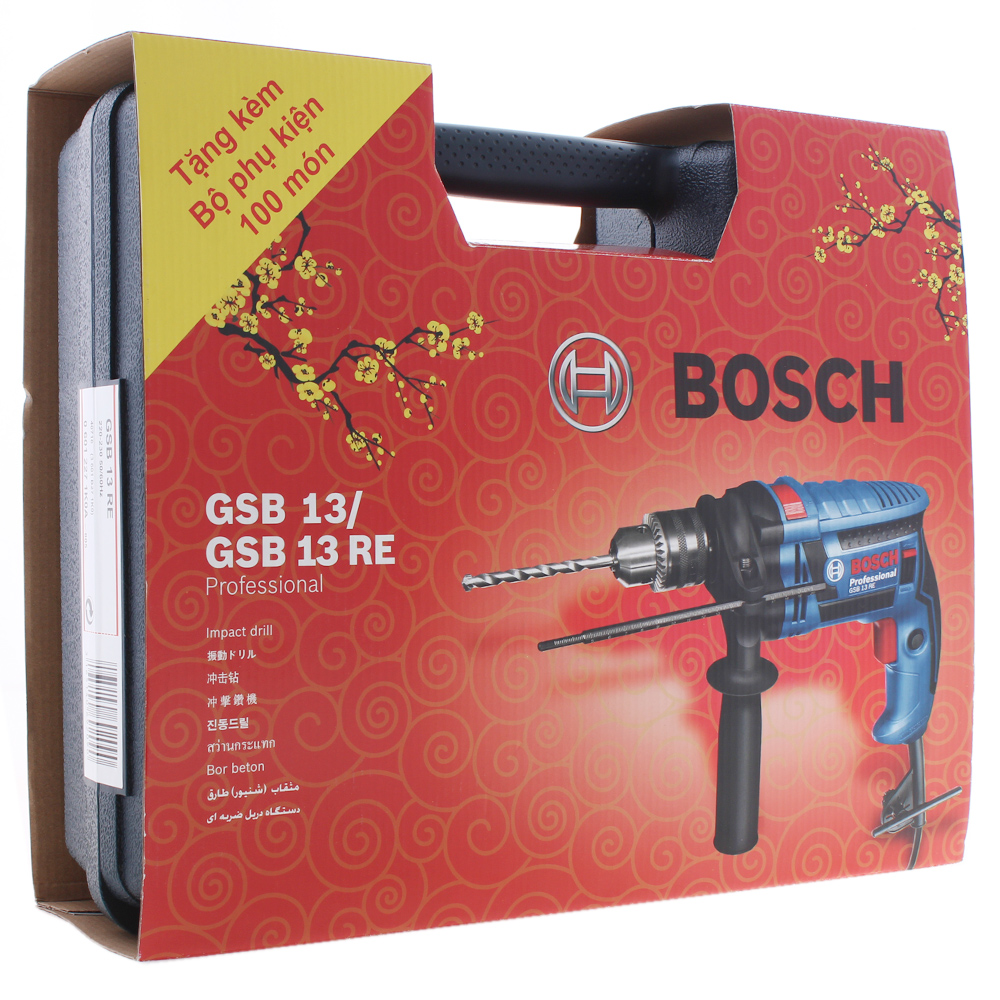Bosch: (664, 339, 908, 430), (849, 543, 903, 578)
